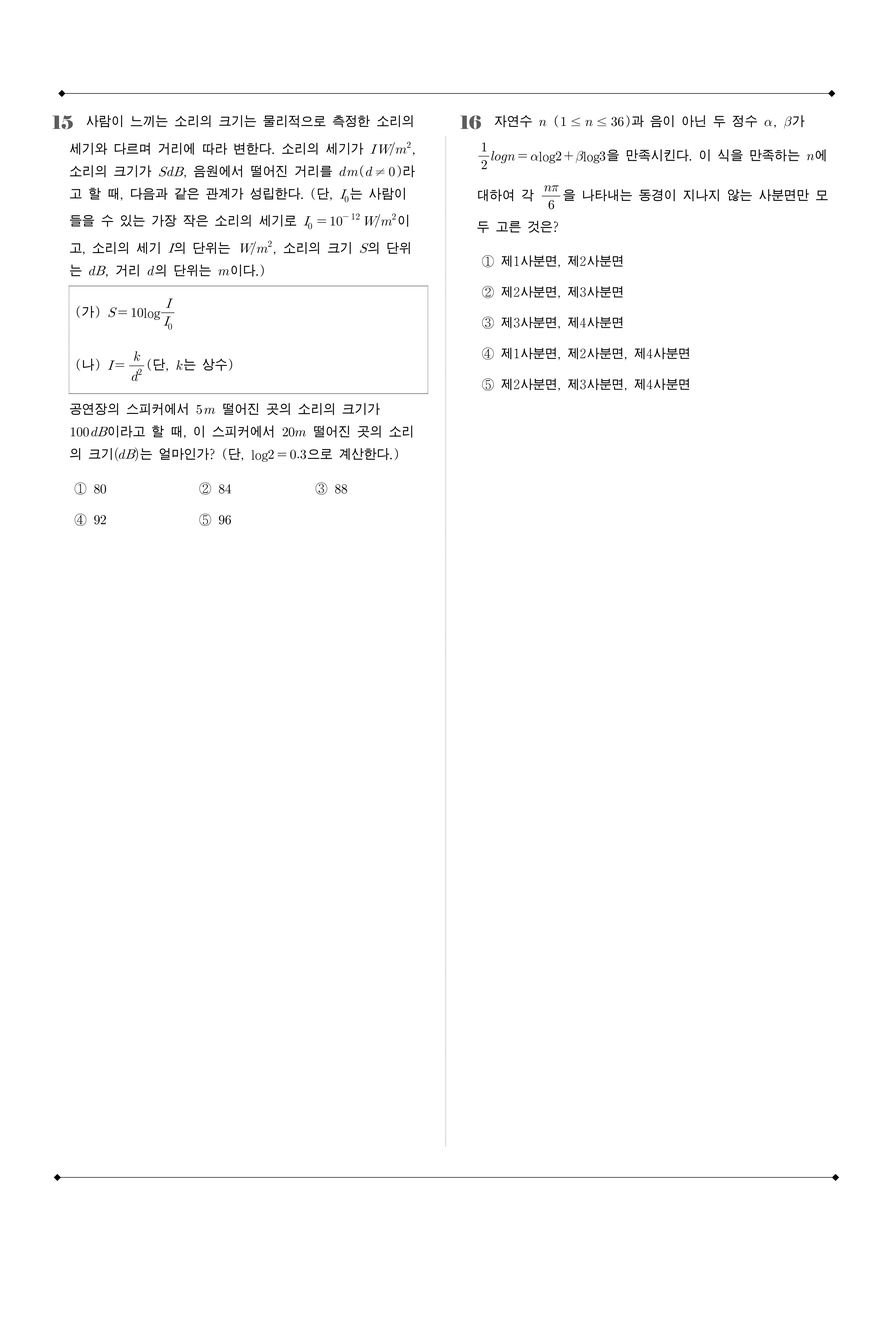problem: (39, 97, 435, 546), (455, 103, 840, 416)
